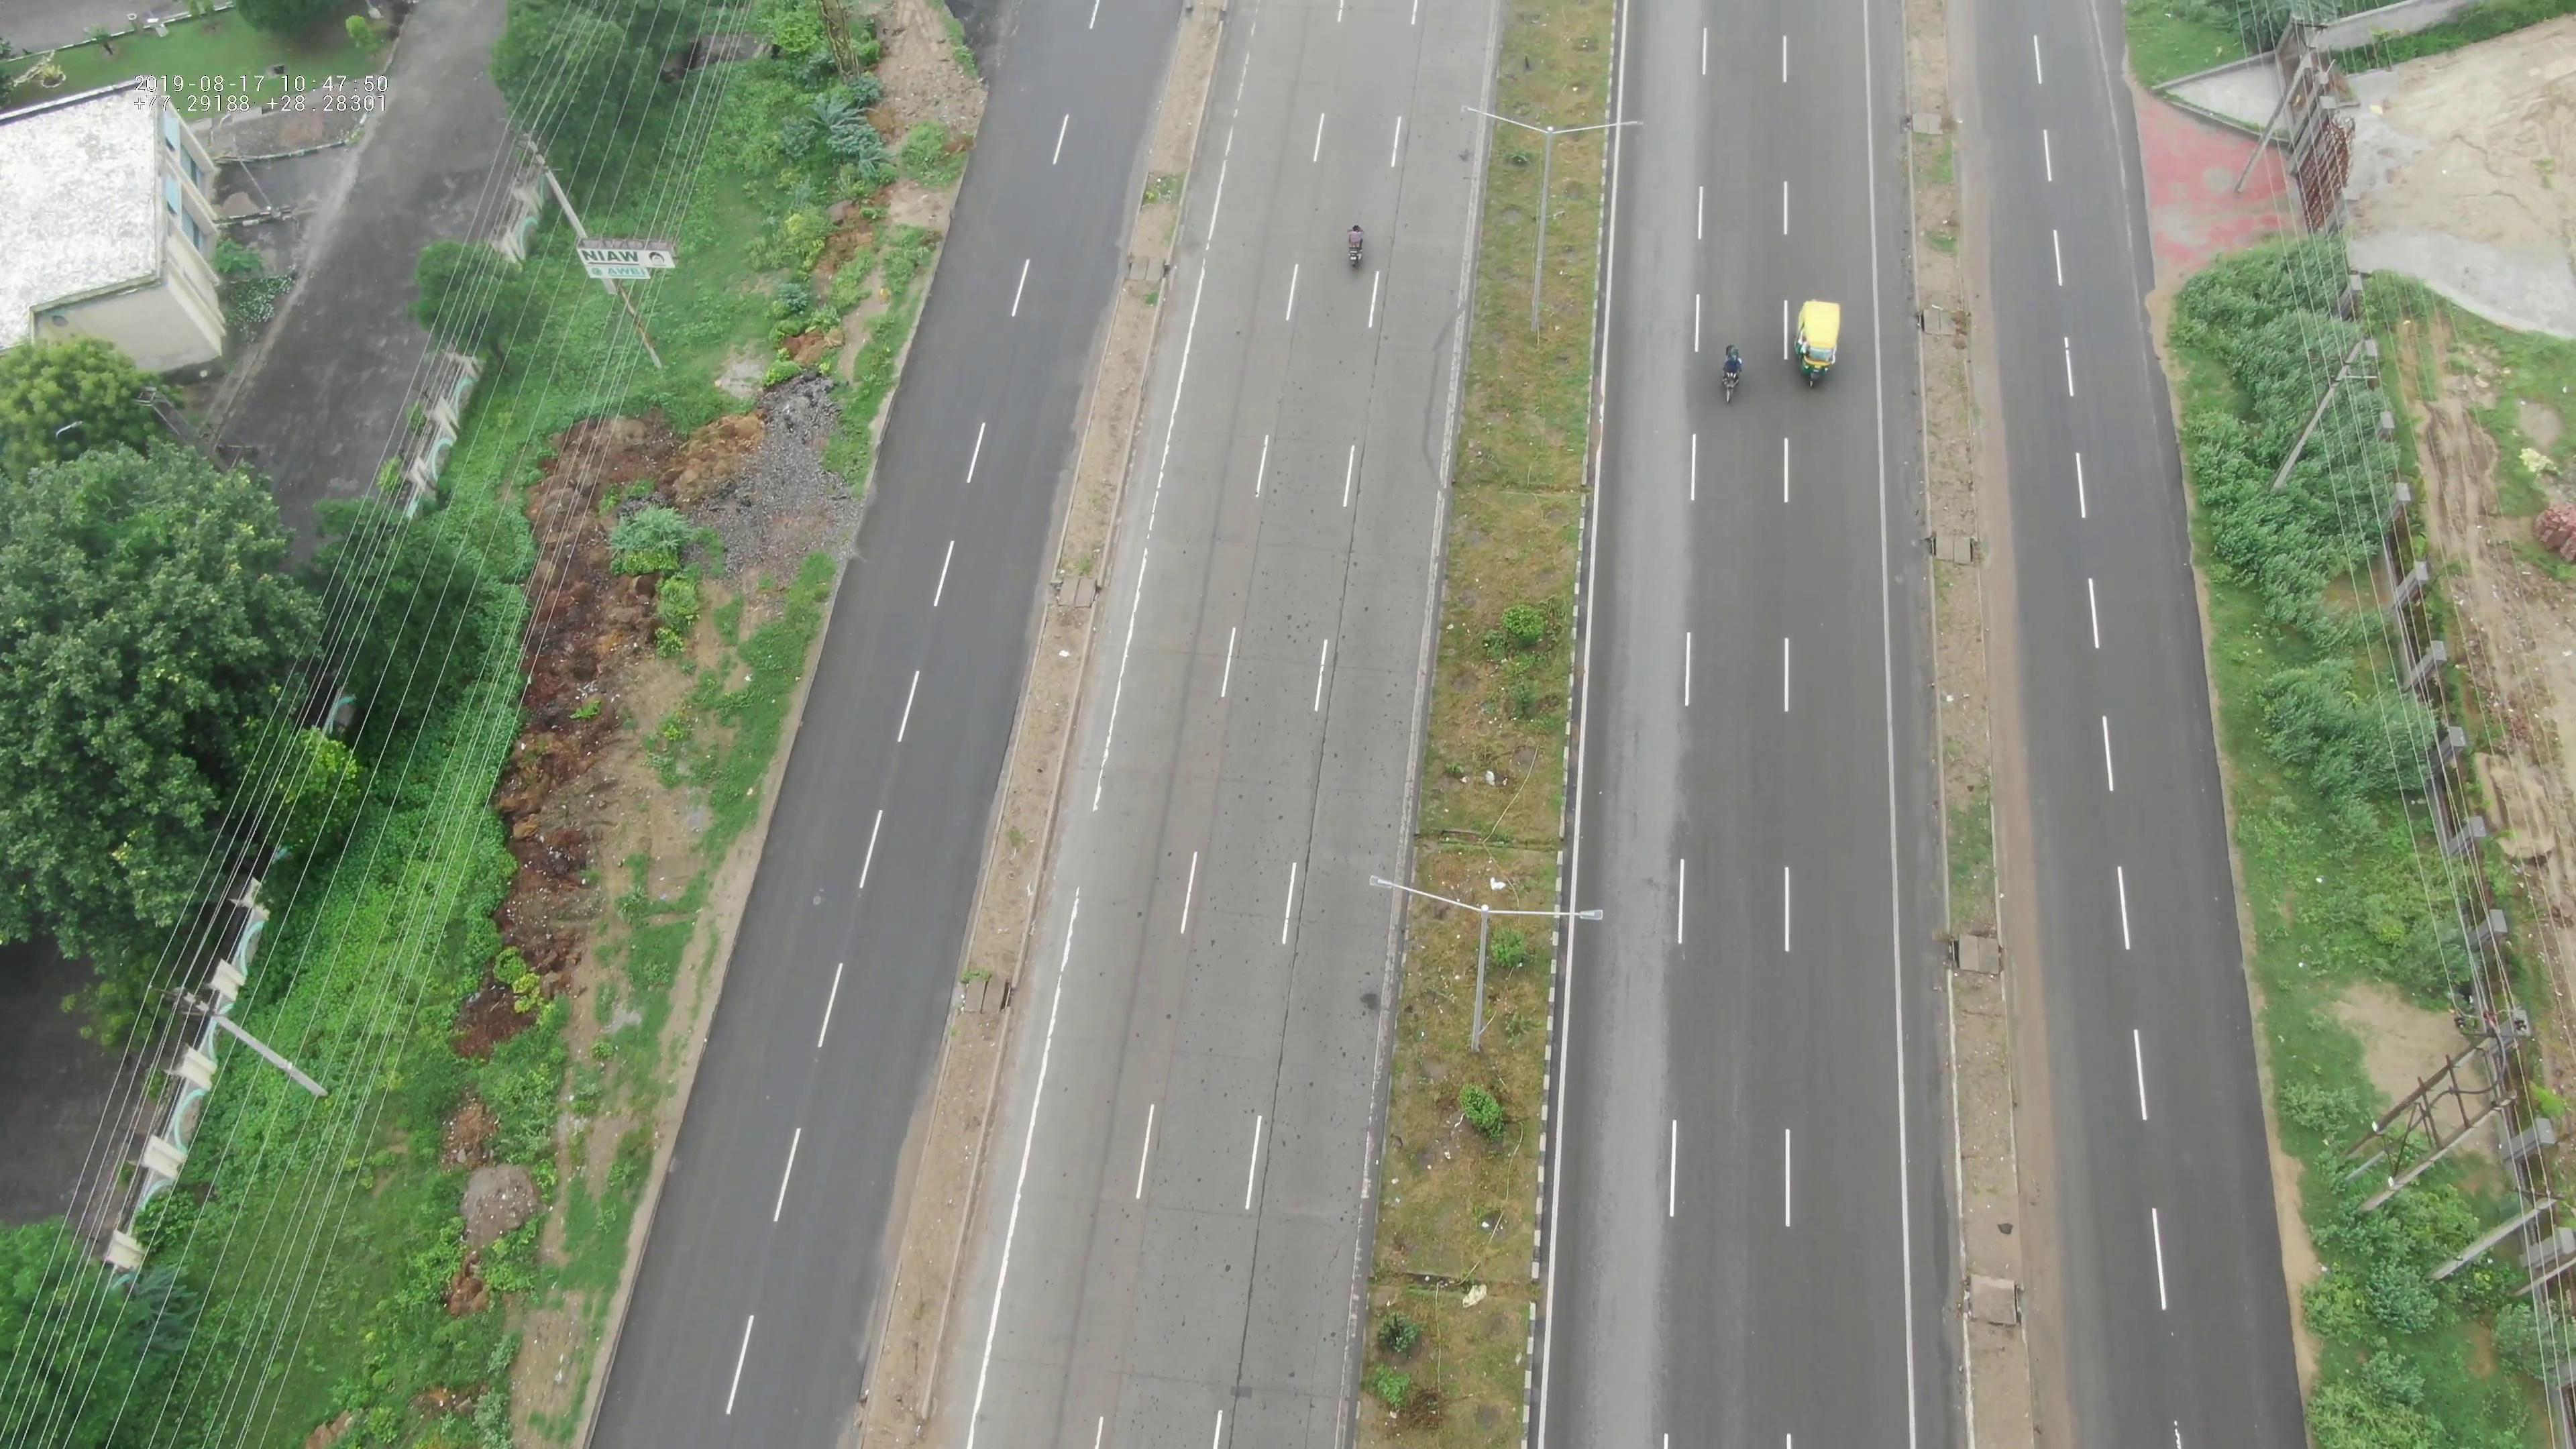Mud_Heaps: (685, 356, 832, 603)
Muddy_road: (1969, 435, 2010, 566), (1980, 617, 2019, 747)
Potholes: (1260, 563, 1361, 663), (1336, 722, 1398, 794), (1276, 455, 1322, 518)
